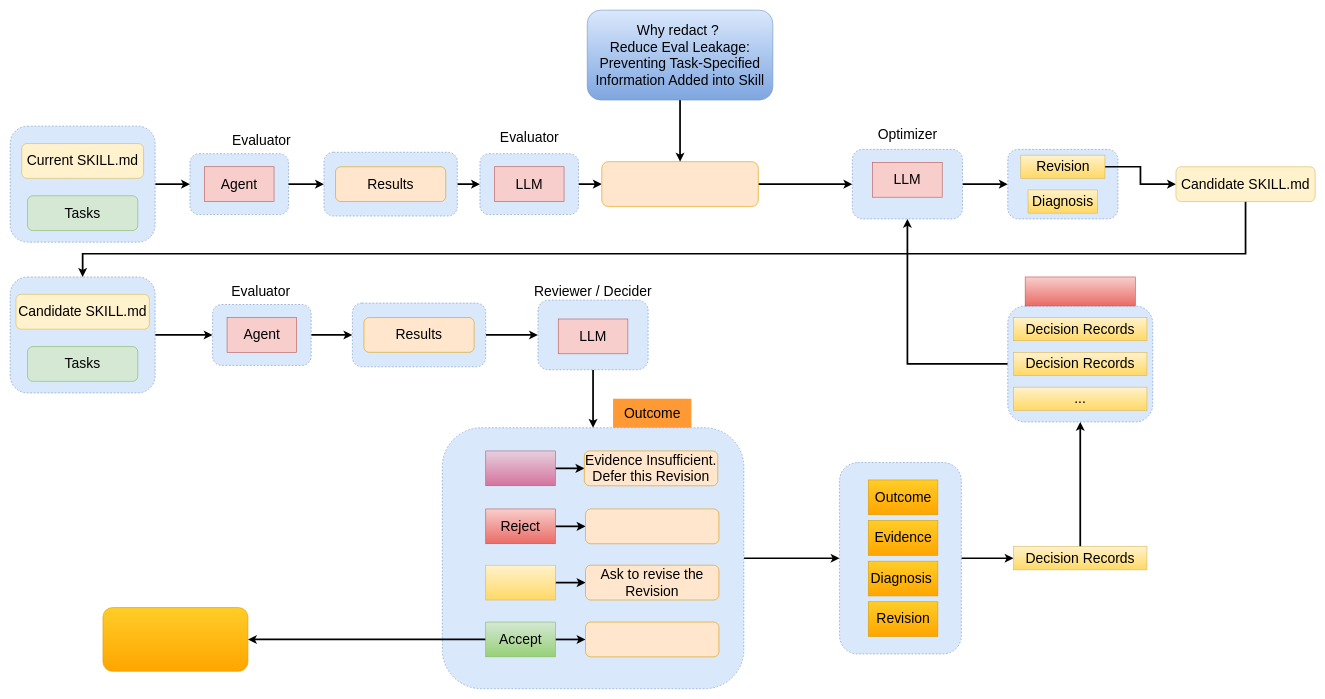
This 1325x699 diagram has some shape labels left out. Each missing label, with the centre of its shape:
Accept the Revision: point 652,639
Candidate SKILL.md -> Current SKILL.md: point 175,639
Decision History: point 1080,291
Defer: point 520,468
Redacted Report (Failure Summary): point 679,184
Reject the Revision: point 652,526
Revise: point 520,582
